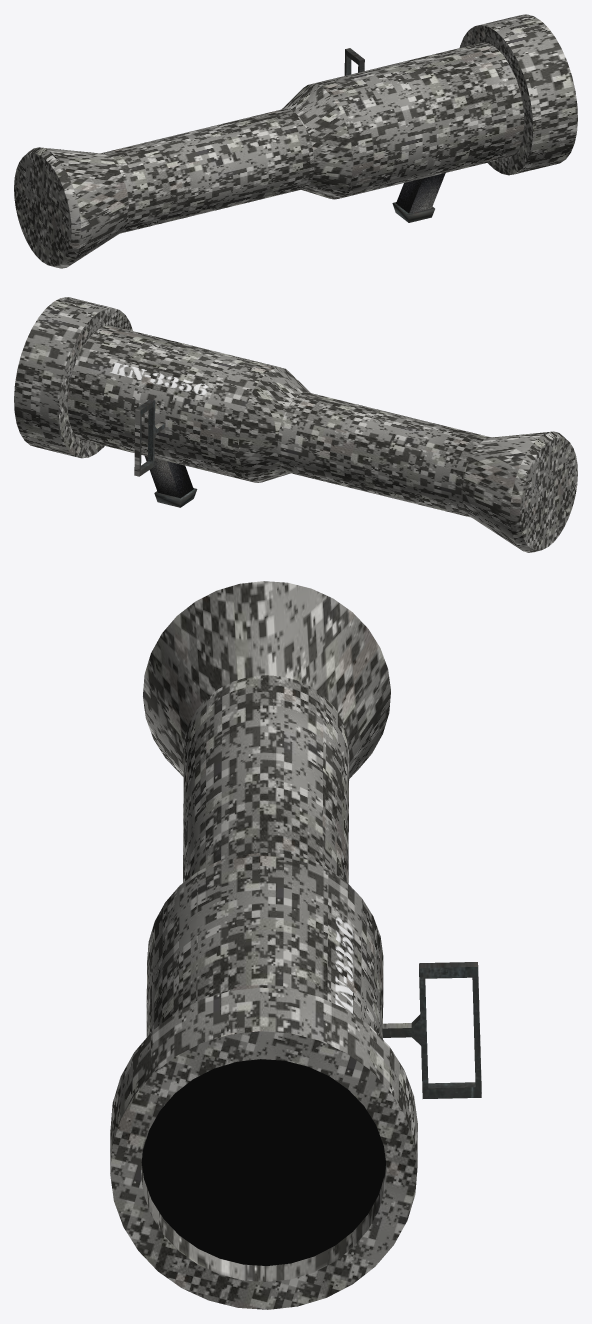
The model's file is launcher_000008.obj.
The picture shows the model from 3 angles, top to bottom: view 1: azimuth 30°, elevation 25°; view 2: azimuth 150°, elevation 25°; view 3: azimuth 270°, elevation 25°; orthographic projection. The views are drawn at different scales.
Visible parts, largest first — view 1: Cylinder; view 2: Cylinder; view 3: Cylinder.
Boxes of the visible parts, box(x1,y1,x2,y2) form: Cylinder: box(14, 14, 577, 268); Cylinder: box(14, 297, 577, 552); Cylinder: box(110, 581, 481, 1309).
Size of the model in its own units: 8.72 by 2.8 by 2.83.
1 material, 1 textured.
